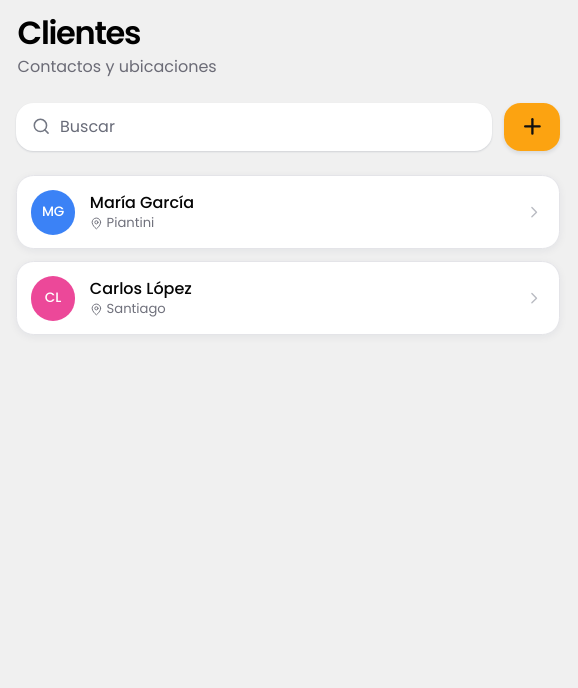
ClientsPage › opens an existing client for editing
This screenshot has width=578, height=688.
Click the text "María García" at {"x": 142, "y": 202}, box [90,190,194,214]
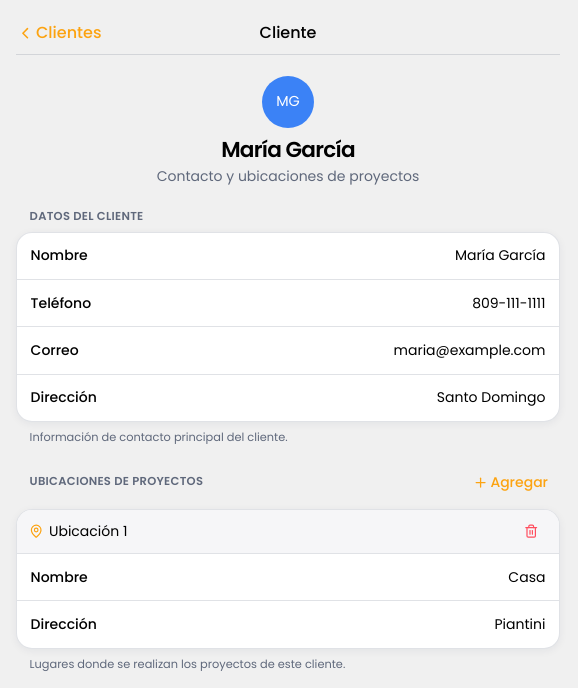
Expected: the field named "Nombre del cliente" holds "María García", [139,240,545,272]
